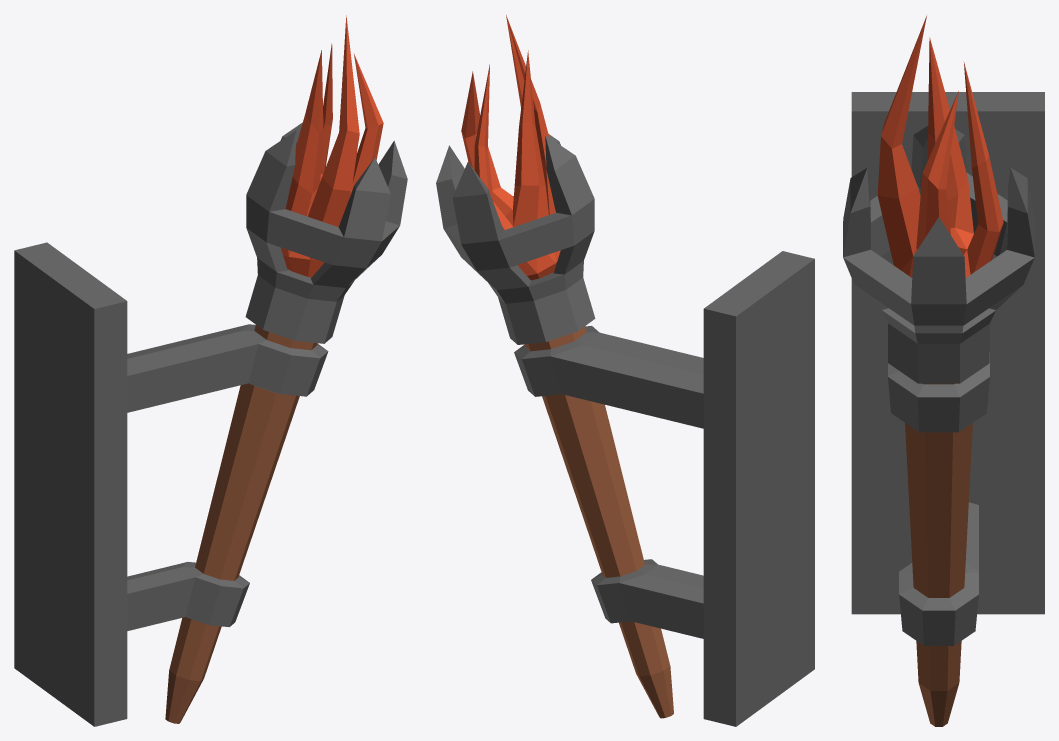
File: Torch_wall.glb
3 views of the same model, side by side, from view 1: azimuth 30°, elevation 25°; view 2: azimuth 150°, elevation 25°; view 3: azimuth 270°, elevation 25° (orthographic). The views are drawn at different scales.
Parts seen in each view (by area): view 1: Torch; view 2: Torch; view 3: Torch.
Part boxes in pixels (x1,y1,x2,y2): Torch: (14,15,407,726); Torch: (436,15,814,726); Torch: (843,15,1044,726).
Bounding box in the file's own units: 1.1 × 2.08 × 0.4704.
